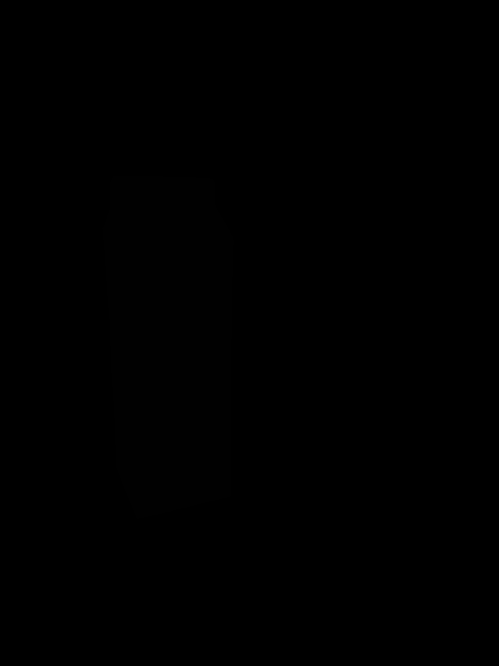carton: (100, 173, 233, 521)
